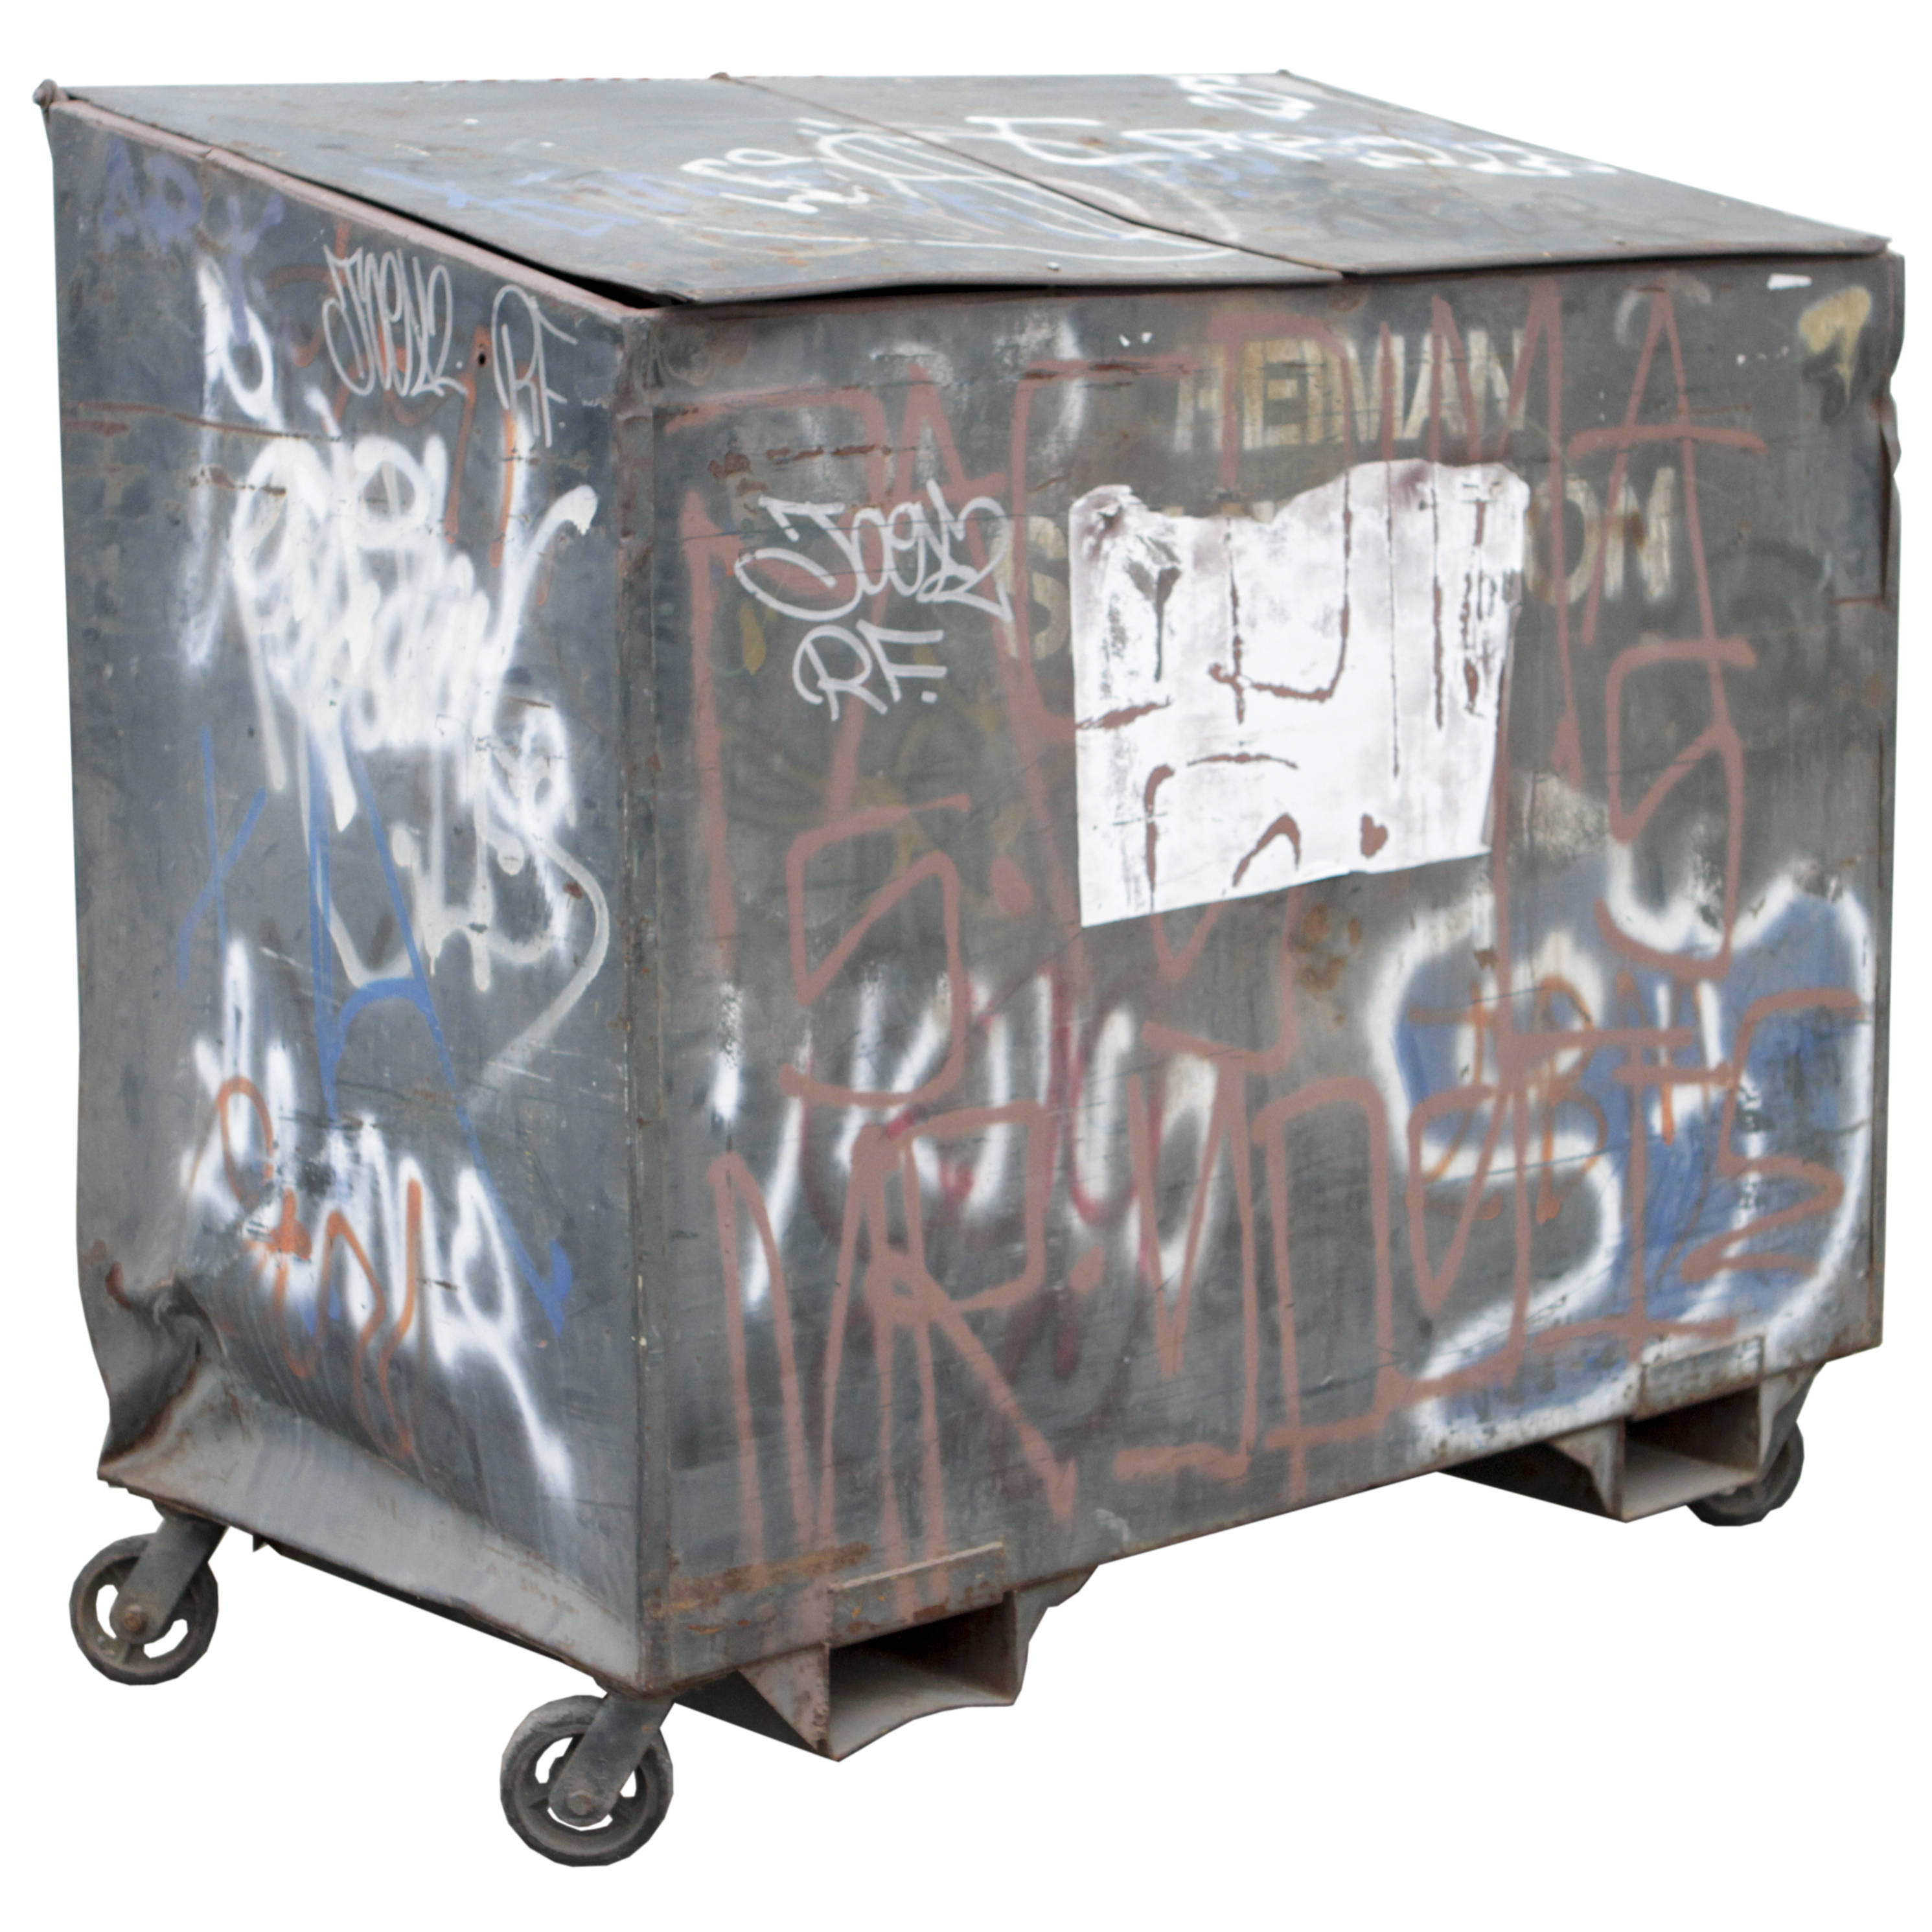Dumpster: (27, 58, 1904, 1879)
